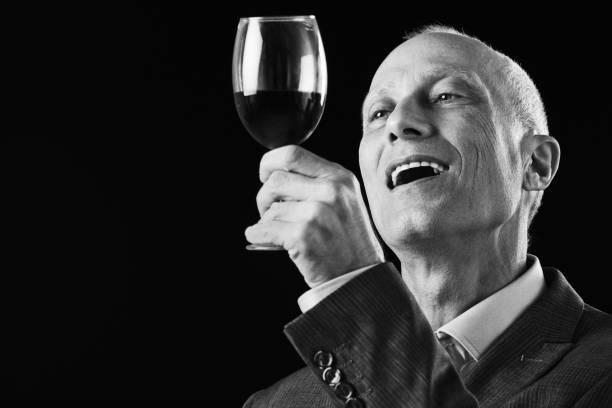glass-wine: (231, 13, 328, 252)
